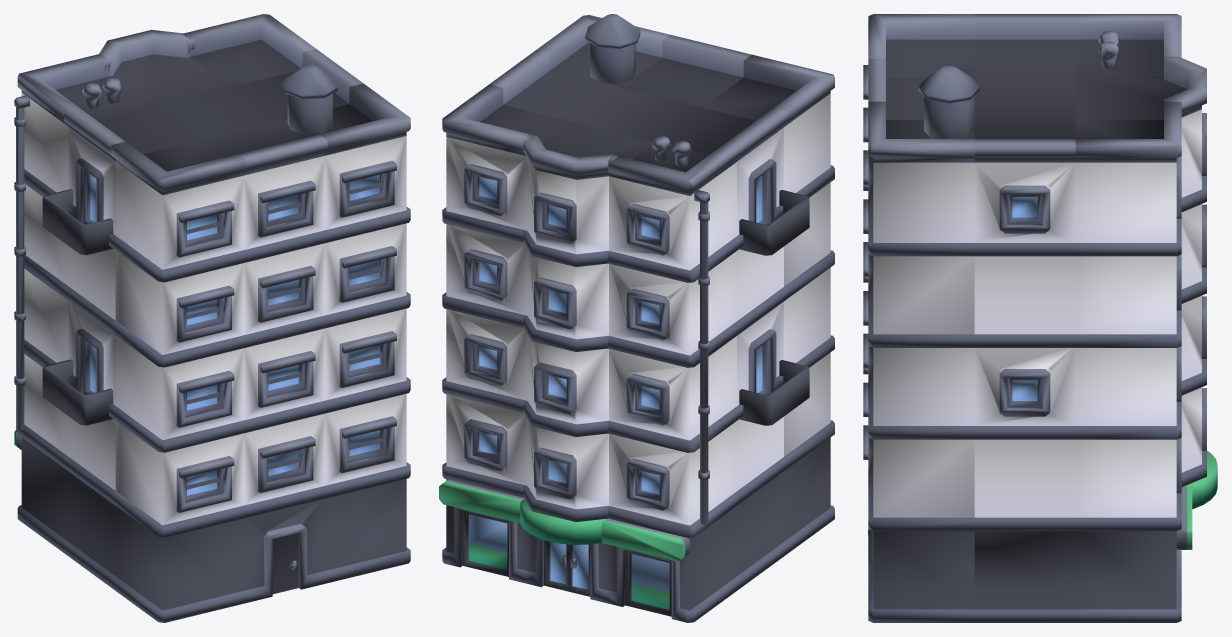
File: building-l_lev1.glb
3 renders of one model, left to right at view 1: azimuth 30°, elevation 25°; view 2: azimuth 150°, elevation 25°; view 3: azimuth 270°, elevation 25°, orthographic. The views are drawn at different scales.
Parts seen in each view (by area): view 1: building-l_lev1; view 2: building-l_lev1; view 3: building-l_lev1.
Part boxes in pixels (box(x1,y1,x2,y2)): building-l_lev1: box(14, 14, 410, 622); building-l_lev1: box(439, 14, 834, 622); building-l_lev1: box(863, 14, 1217, 622).
Bounding box in the file's own units: 1.37 × 2.27 × 1.4.
1 material, 1 textured.
